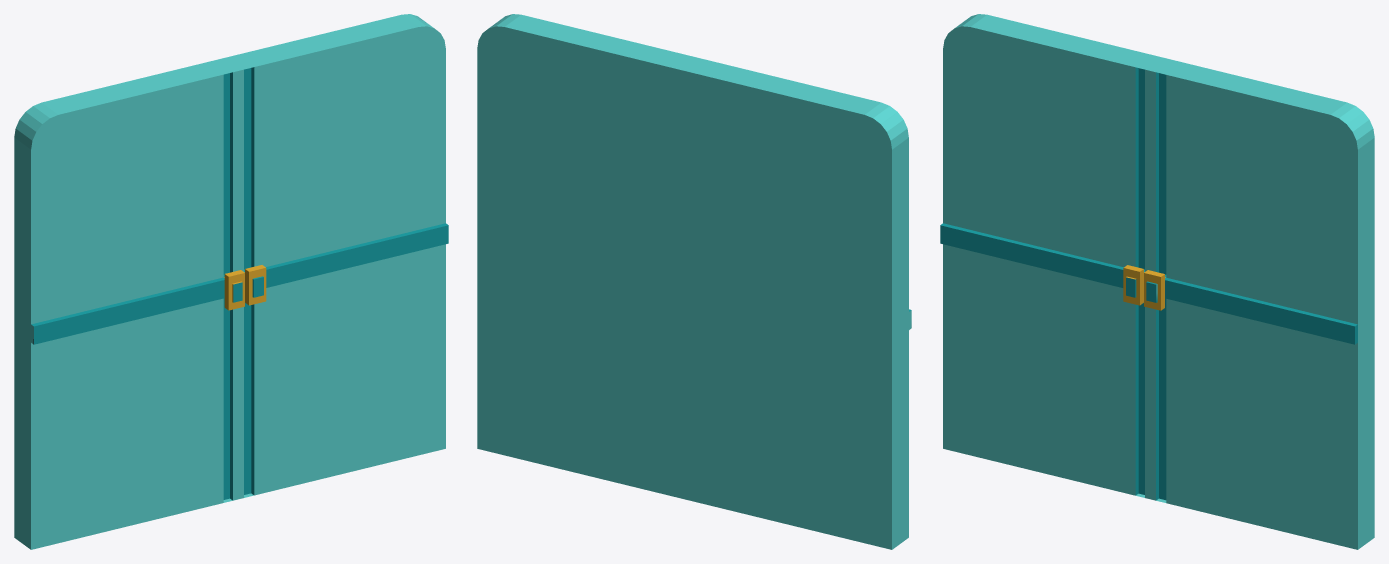
File: StoreDoor.fbx
3 renders of one model, left to right at view 1: azimuth 30°, elevation 25°; view 2: azimuth 150°, elevation 25°; view 3: azimuth 330°, elevation 25°, orthographic.
Visible parts, largest first — view 1: StoreDoor; view 2: StoreDoor; view 3: StoreDoor.
Boxes of the visible parts, x1=… form: StoreDoor: x1=14, y1=14, x2=448, y2=549; StoreDoor: x1=477, y1=14, x2=911, y2=549; StoreDoor: x1=940, y1=14, x2=1374, y2=549.
Size of the model in its own units: 569 by 561 by 63.03.
